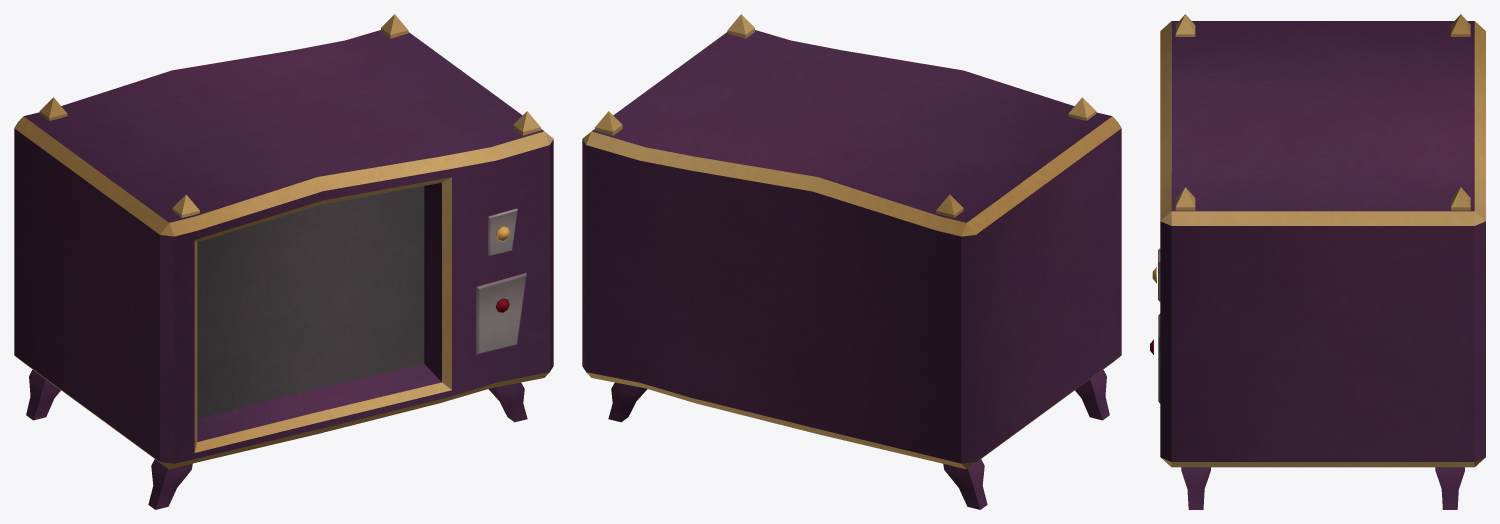
3 views of the same model, side by side, from view 1: azimuth 30°, elevation 25°; view 2: azimuth 150°, elevation 25°; view 3: azimuth 270°, elevation 25° (orthographic). The views are drawn at different scales.
Parts seen in each view (by area): view 1: Sm_tv; view 2: Sm_tv; view 3: Sm_tv.
Boxes of the visible parts, x1,y1,x2,y2 form: Sm_tv: (14, 14, 553, 509); Sm_tv: (582, 14, 1121, 509); Sm_tv: (1150, 14, 1485, 509).
Bounding box in the file's own units: 1.16 × 0.8701 × 0.8223.
